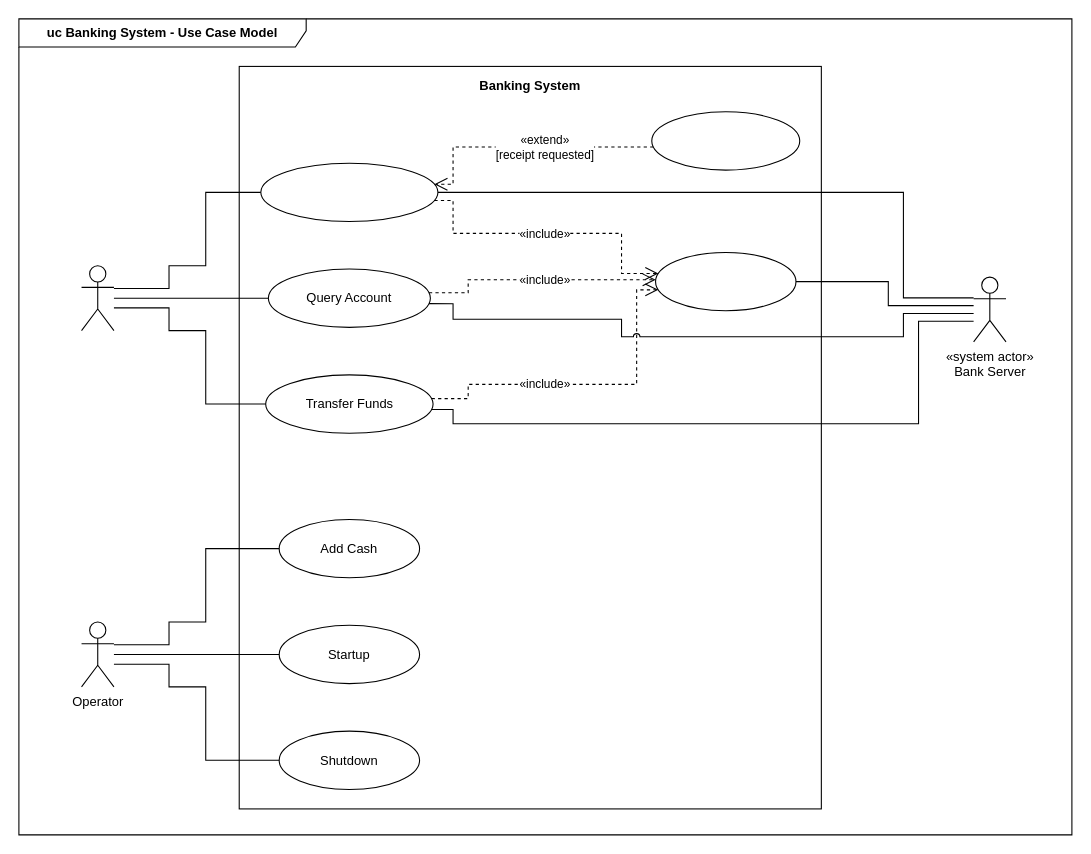
Image size: 1091x854. Some labels were removed from this diagram. The box of each missing label's shape, as (x1, y1, x2, y2) in pixels:
ATM Customer: (80, 265, 114, 331)
Print Receipt: (651, 111, 800, 170)
Validate PIN: (654, 251, 796, 311)
Withdraw Funds: (260, 162, 438, 222)
